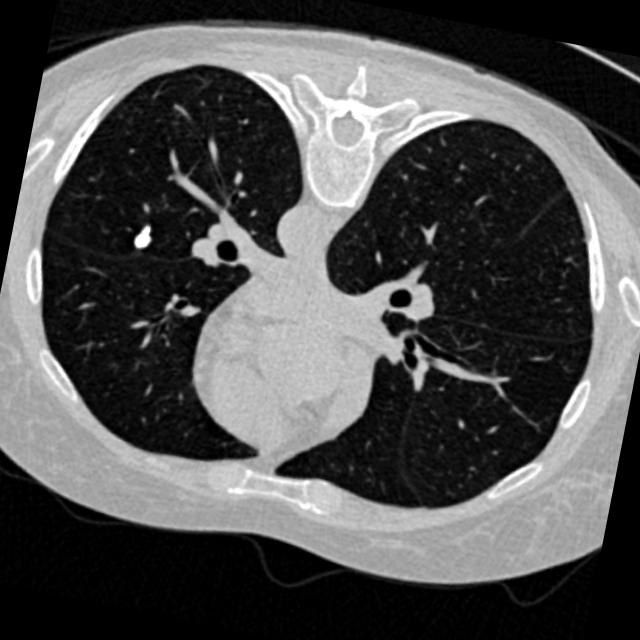nodule: (124, 221, 162, 259)
